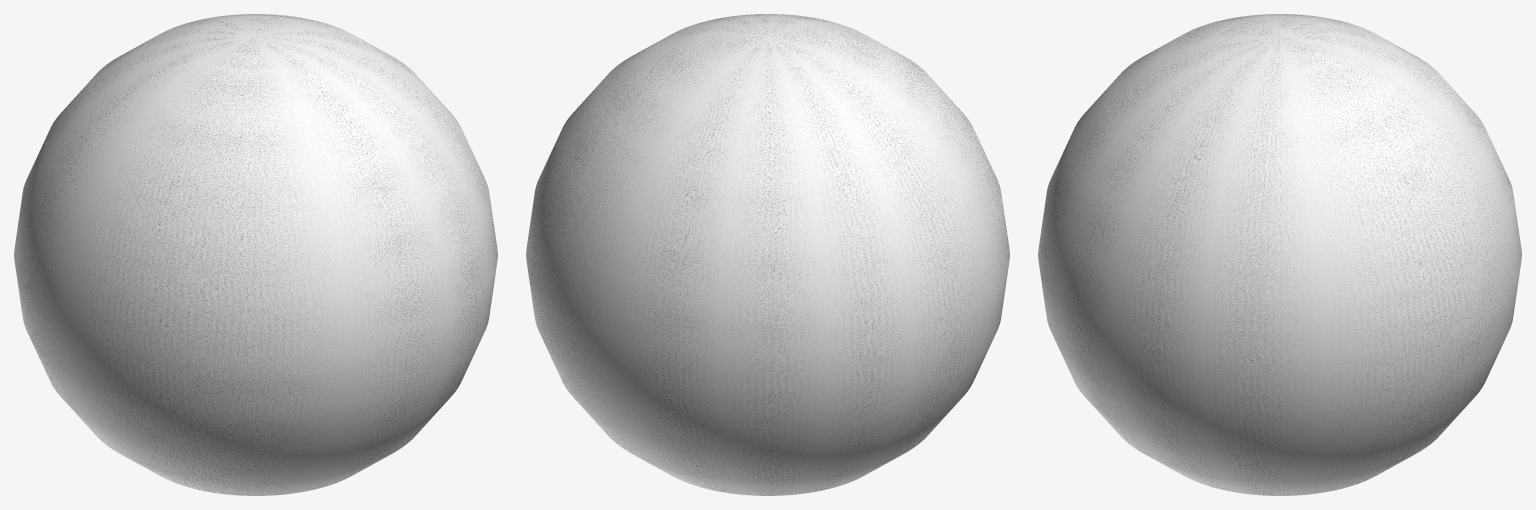
File: original-130.obj
3 views of the same model, side by side, from view 1: azimuth 30°, elevation 25°; view 2: azimuth 150°, elevation 25°; view 3: azimuth 270°, elevation 25° (orthographic).
Visible parts, largest first — view 1: instance_5/shpere__bille_ball_bola__de_diam_1_M/instance_6/shper; view 2: instance_5/shpere__bille_ball_bola__de_diam_1_M/instance_6/shper; view 3: instance_5/shpere__bille_ball_bola__de_diam_1_M/instance_6/shper.
Part boxes in pixels (left/top/right/bottom): instance_5/shpere__bille_ball_bola__de_diam_1_M/instance_6/shper: left=14, top=14, right=497, bottom=495; instance_5/shpere__bille_ball_bola__de_diam_1_M/instance_6/shper: left=526, top=14, right=1009, bottom=495; instance_5/shpere__bille_ball_bola__de_diam_1_M/instance_6/shper: left=1038, top=14, right=1521, bottom=495.
Size of the model in its own units: 0.0156 by 0.0156 by 0.0156.
Materials: 2 (1 with a texture image).
